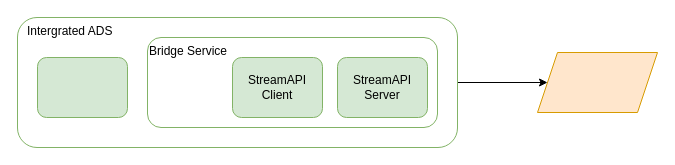
Some shapes in this 675 by 165 pixel diagram are drawn without their labels. The centre of each missing label's shape, as x and y in pixels:
"ADS" goes at point (82, 87).
"Kafka Broker" goes at point (597, 82).
